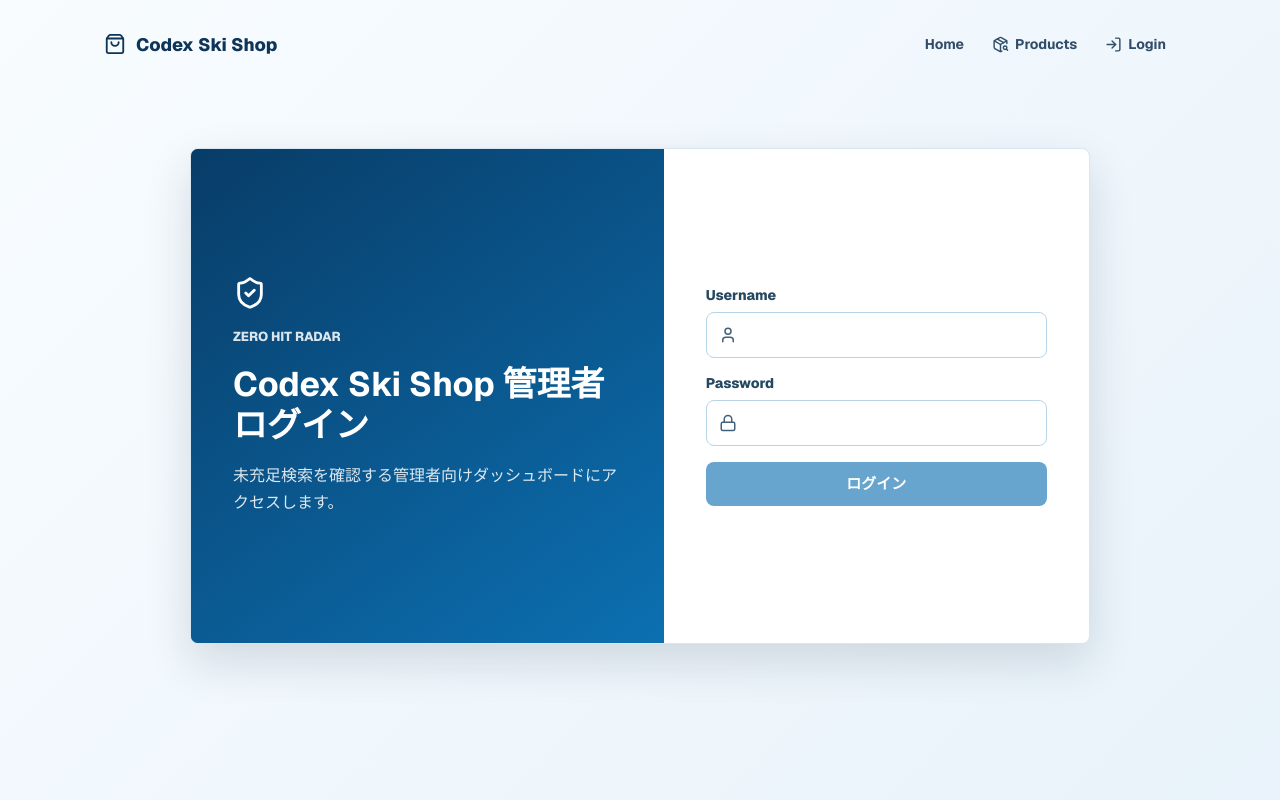
auth pages › shows login API error messages near the form
Type "admin" into the field labelled "Username". click: x=890, y=335
box: [747, 313, 1034, 357]
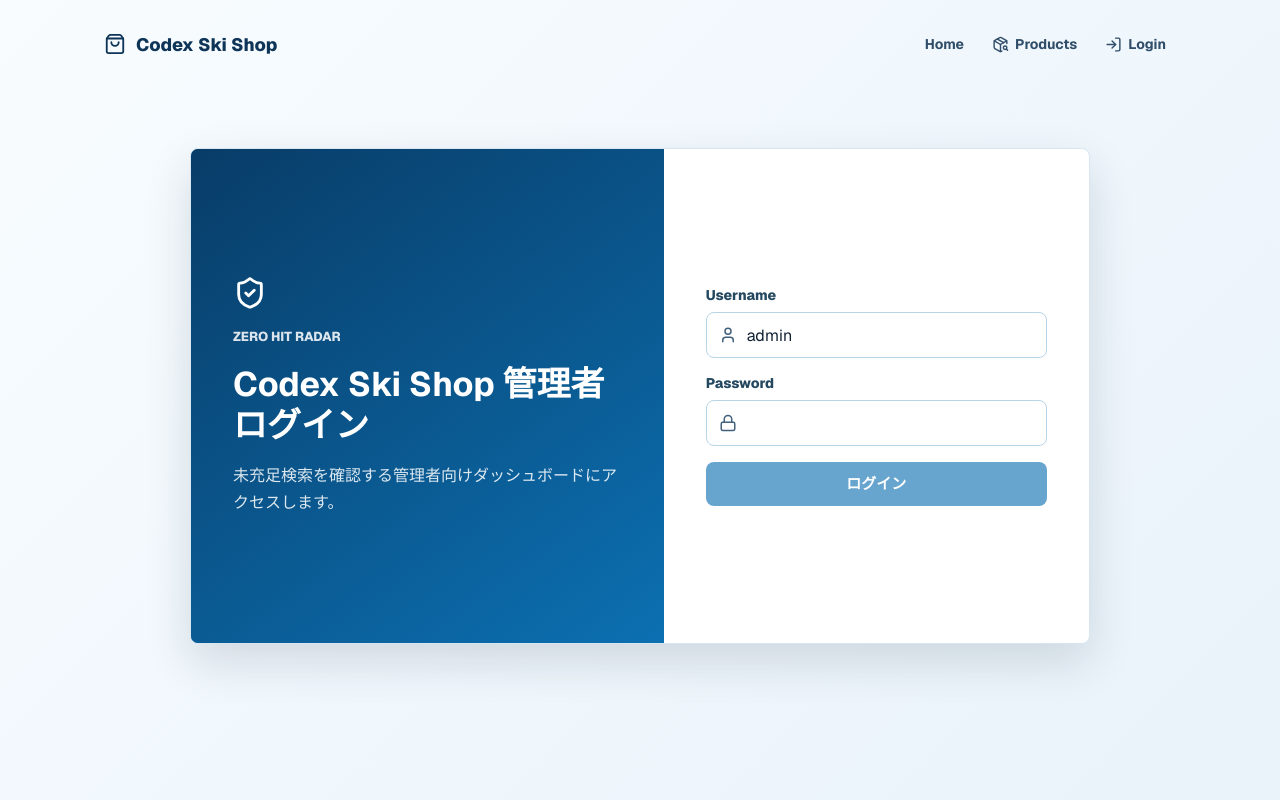
Type "wrong" into the password field labelled "Password". click: x=890, y=423
box: [747, 401, 1034, 445]
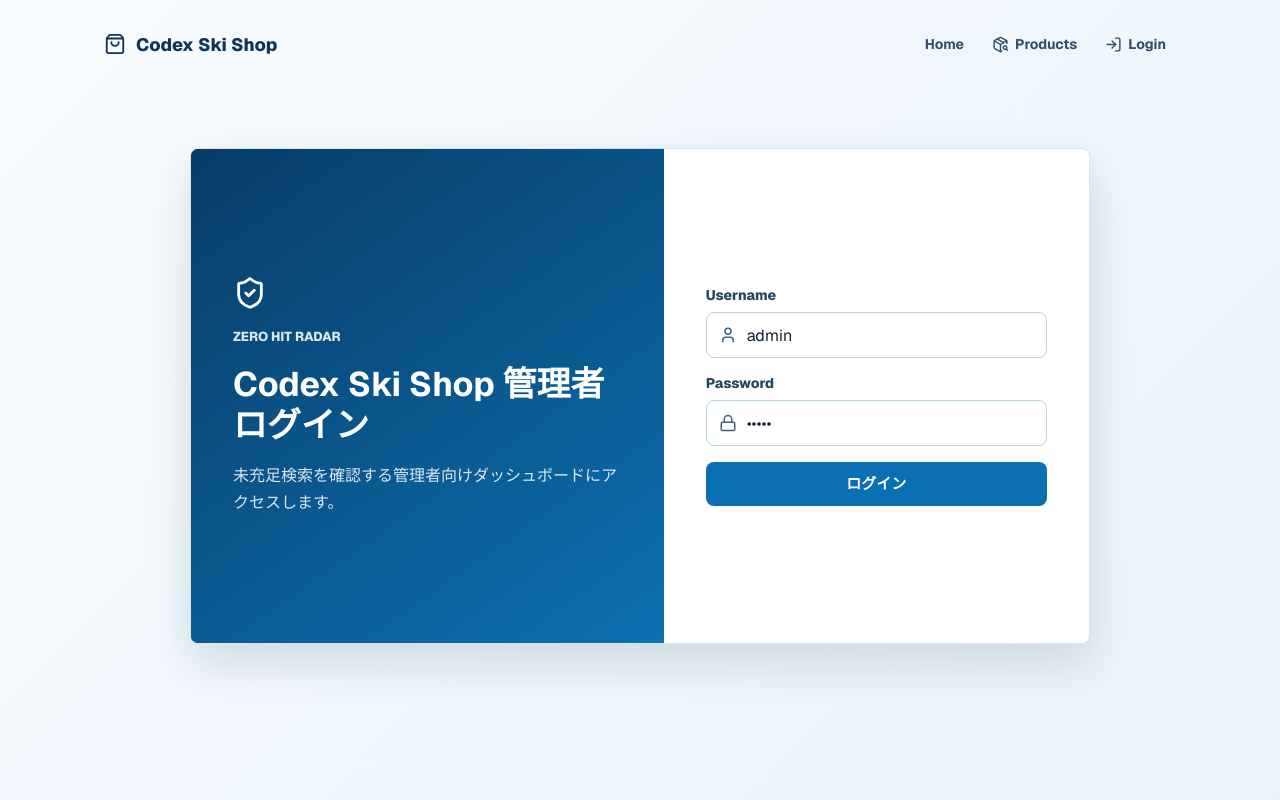
Click the button "ログイン". click: x=876, y=484
box: [706, 462, 1047, 506]
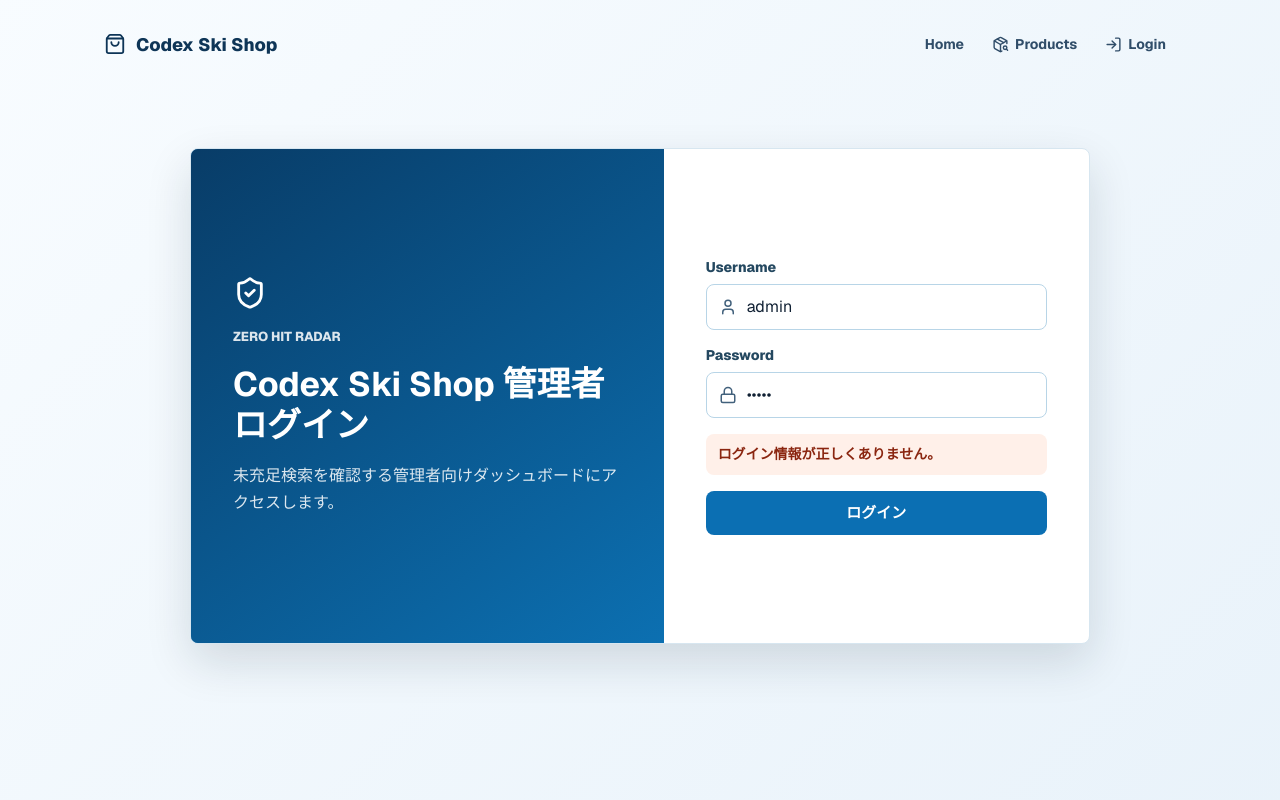
Now the message reads "ログイン情報が正しくありません。", box [718, 444, 941, 462]
